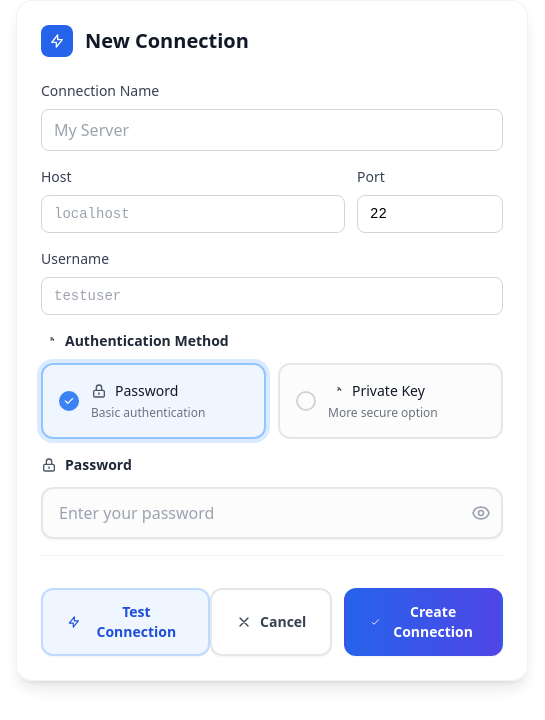
it: ConnectionForm › switches between password and private key authentication
The image size is (545, 720).
Step 1. Click the radio button labelled "Private Key More secure option" → [390, 401], box x1=278 y1=363 x2=503 y2=439
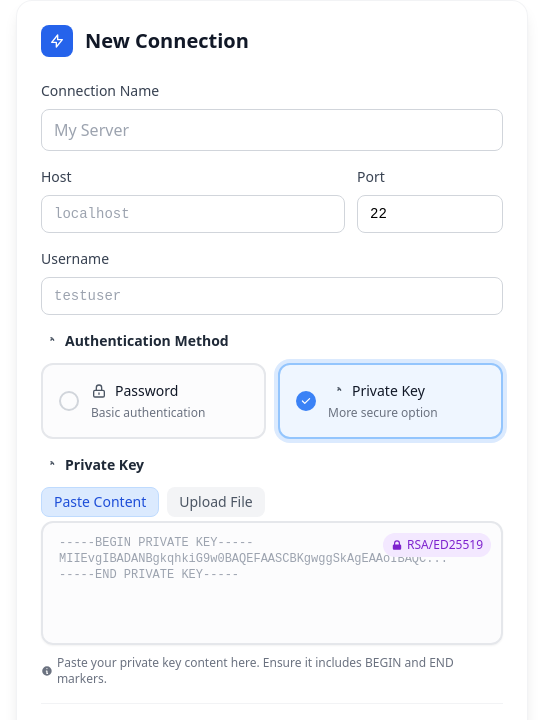
Check: the radio button labelled "Private Key More secure option" is checked, box x1=278 y1=363 x2=503 y2=439
Check: the radio button labelled "Password Basic authentication" is not checked, box x1=41 y1=363 x2=266 y2=439
